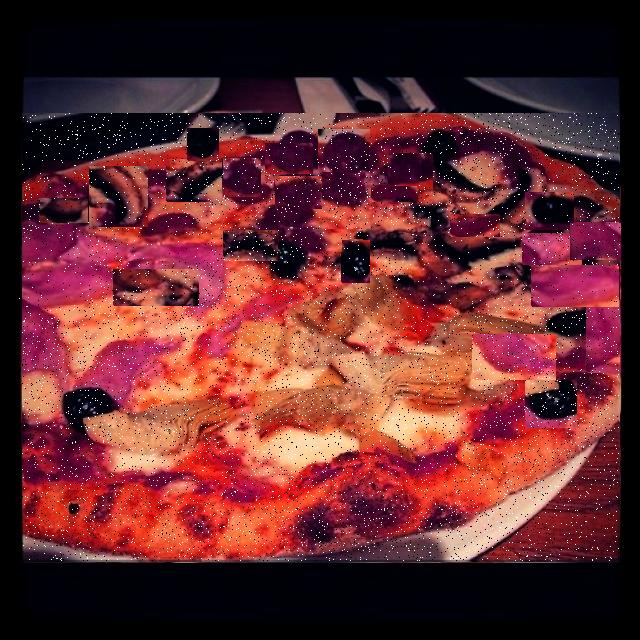Ham: (411, 237, 515, 298), (473, 335, 556, 380), (532, 266, 619, 307), (587, 300, 620, 373), (570, 223, 621, 260), (523, 234, 582, 265)
Mushrooms: (19, 239, 89, 305), (90, 167, 148, 227), (114, 270, 199, 306), (122, 230, 211, 261), (167, 160, 222, 202), (224, 231, 278, 261), (40, 199, 88, 223), (175, 207, 210, 235)
Olives: (526, 381, 577, 428), (526, 193, 574, 230), (342, 240, 370, 283), (188, 129, 219, 161)
Pepperoni: (319, 130, 372, 172), (328, 200, 384, 229), (389, 154, 433, 189), (276, 177, 322, 209), (266, 144, 313, 174), (224, 159, 261, 197), (451, 215, 500, 237), (363, 226, 411, 245), (328, 176, 364, 197), (372, 186, 417, 202), (324, 231, 349, 252)
Pizza: (23, 114, 619, 561)
